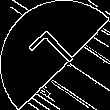L_SE: (27, 26, 83, 84)
